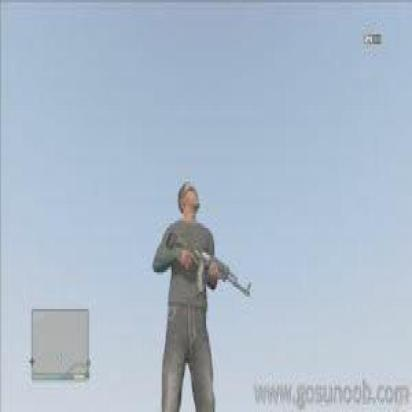Gun: (166, 231, 254, 301)
